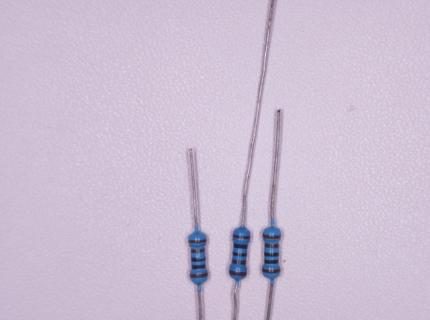Black band: (192, 257, 206, 262), (233, 252, 247, 257), (265, 252, 279, 256), (192, 265, 205, 269), (234, 244, 247, 248), (265, 260, 278, 264)
Brown band: (190, 273, 208, 278), (263, 234, 281, 239), (230, 271, 247, 276), (263, 269, 281, 273), (233, 235, 251, 239), (232, 260, 246, 265), (265, 244, 279, 249), (189, 239, 206, 243), (192, 249, 205, 253)
